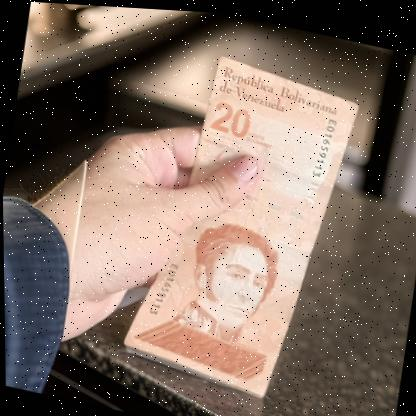twenty-front-vef: (114, 38, 366, 407)
